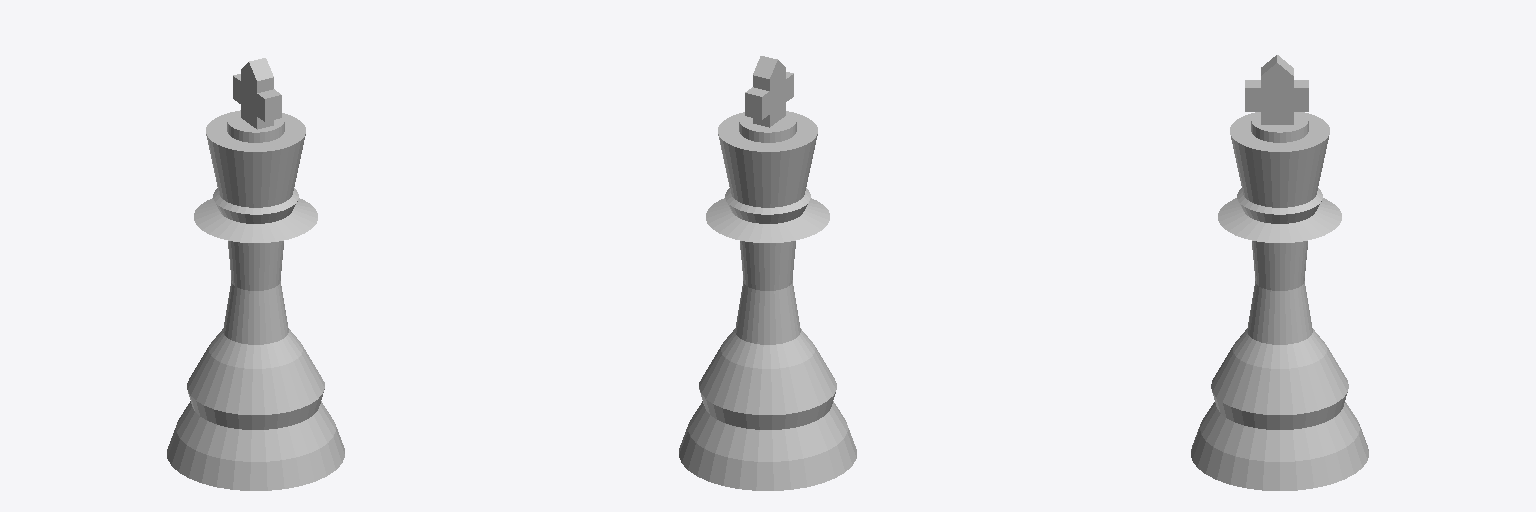
File: King.obj
3 views of the same model, side by side, from view 1: azimuth 30°, elevation 25°; view 2: azimuth 150°, elevation 25°; view 3: azimuth 270°, elevation 25° (orthographic).
Visible parts, largest first — view 1: Cube.001; view 2: Cube.001; view 3: Cube.001.
Part boxes in pixels (left/top/right/bottom): Cube.001: left=167, top=58, right=344, bottom=490; Cube.001: left=679, top=56, right=856, bottom=490; Cube.001: left=1191, top=55, right=1368, bottom=490.
Size of the model in its own units: 4.07 by 9.91 by 4.07.